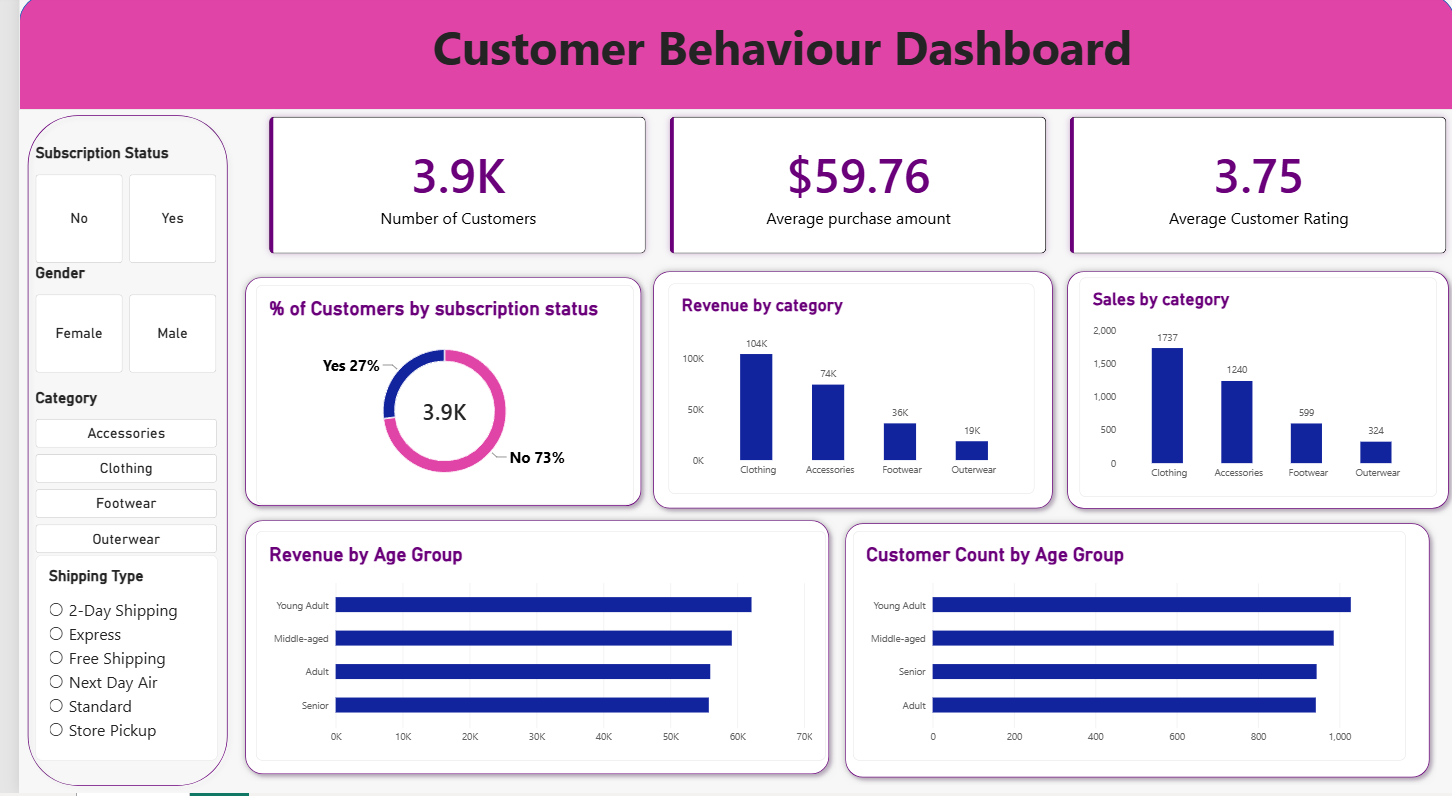

The dashboard page shown, as its layout file describes it:
{"tool":"powerbi","page":{"name":"Page 1","canvas":[1800,1000],"ordinal":0},"visuals":[{"type":"cardVisual","fields":{"Data":["public customer_shopping.Number of Customers","public customer_shopping.Average purchase amount","public customer_shopping.Average review Rating"]},"box":[303.1,142.7,1496.2,193.8],"z":0},{"type":"shape","box":[0,0,1797.9,144.8],"z":1000},{"type":"textbox","box":[0,25,1919.3,72.7],"z":2000},{"type":"shape","box":[274.7,345,513.9,304.5],"z":3000},{"type":"donutChart","title":"% of Customers by subscription status","fields":{"Category":["public customer_shopping.subscription_status"],"Y":["Count(public customer_shopping.customer_id)"]},"box":[296,364.1,472.7,274.7],"z":4000},{"type":"shape","box":[785,337.9,518.1,315.1],"z":5000},{"type":"shape","box":[1302.9,337.9,495.6,315.4],"z":6000},{"type":"clusteredColumnChart","title":"Revenue by category","fields":{"Category":["public customer_shopping.category"],"Y":["Sum(public customer_shopping.purchase_amount)"]},"box":[813.4,362,457.8,263.3],"z":7000},{"type":"clusteredColumnChart","title":"Sales by category","fields":{"Category":["public customer_shopping.category"],"Y":["CountNonNull(public customer_shopping.customer_id)"]},"box":[1326.6,355.6,447.2,274.7],"z":8000},{"type":"shape","box":[2.1,142.7,268.3,857.4],"z":9000},{"type":"advancedSlicerVisual","fields":{"Values":["public customer_shopping.subscription_status"]},"box":[21.3,187.4,227.8,149.1],"z":10000},{"type":"advancedSlicerVisual","fields":{"Values":["public customer_shopping.gender"]},"box":[21.3,338.6,227.8,136.3],"z":11000},{"type":"advancedSlicerVisual","fields":{"Values":["public customer_shopping.category"]},"box":[21.3,494,227.8,208.7],"z":12000},{"type":"listSlicer","fields":{"Values":["public customer_shopping.shipping_type"]},"box":[21.3,702.7,227.8,257.7],"z":13000},{"type":"shape","box":[274.7,649.5,749,336],"z":15000},{"type":"clusteredBarChart","title":"Revenue by Age Group","fields":{"Category":["public customer_shopping.age_group"],"Y":["Sum(public customer_shopping.purchase_amount)"]},"box":[296,672.9,713.3,287.5],"z":15001},{"type":"shape","box":[1024.2,653.7,749.5,336.4],"z":15002},{"type":"clusteredBarChart","title":"Customer Count by Age Group","fields":{"Category":["public customer_shopping.age_group"],"Y":["CountNonNull(public customer_shopping.customer_id)"]},"box":[1043.4,672.9,692,287.5],"z":15003}]}

Visuals, with their boxes in screenshot pixels (x1, y1, x2, y2), scaled from the page's 1800x1000 canvas onto the 1452x796 screenshot:
cardVisual - public customer_shopping.Number of Customers x public customer_shopping.Average purchase amount: <region>245, 114, 1451, 268</region>
shape: <region>0, 0, 1450, 115</region>
textbox: <region>0, 20, 1451, 78</region>
shape: <region>222, 275, 636, 517</region>
"% of Customers by subscription status" donutChart: <region>239, 290, 620, 508</region>
shape: <region>633, 269, 1051, 520</region>
shape: <region>1051, 269, 1451, 520</region>
"Revenue by category" clusteredColumnChart: <region>656, 288, 1025, 498</region>
"Sales by category" clusteredColumnChart: <region>1070, 283, 1431, 502</region>
shape: <region>2, 114, 218, 795</region>
advancedSlicerVisual - public customer_shopping.subscription_status: <region>17, 149, 201, 268</region>
advancedSlicerVisual - public customer_shopping.gender: <region>17, 270, 201, 378</region>
advancedSlicerVisual - public customer_shopping.category: <region>17, 393, 201, 559</region>
listSlicer - public customer_shopping.shipping_type: <region>17, 559, 201, 764</region>
shape: <region>222, 517, 826, 784</region>
"Revenue by Age Group" clusteredBarChart: <region>239, 536, 814, 764</region>
shape: <region>826, 520, 1431, 788</region>
"Customer Count by Age Group" clusteredBarChart: <region>842, 536, 1400, 764</region>
